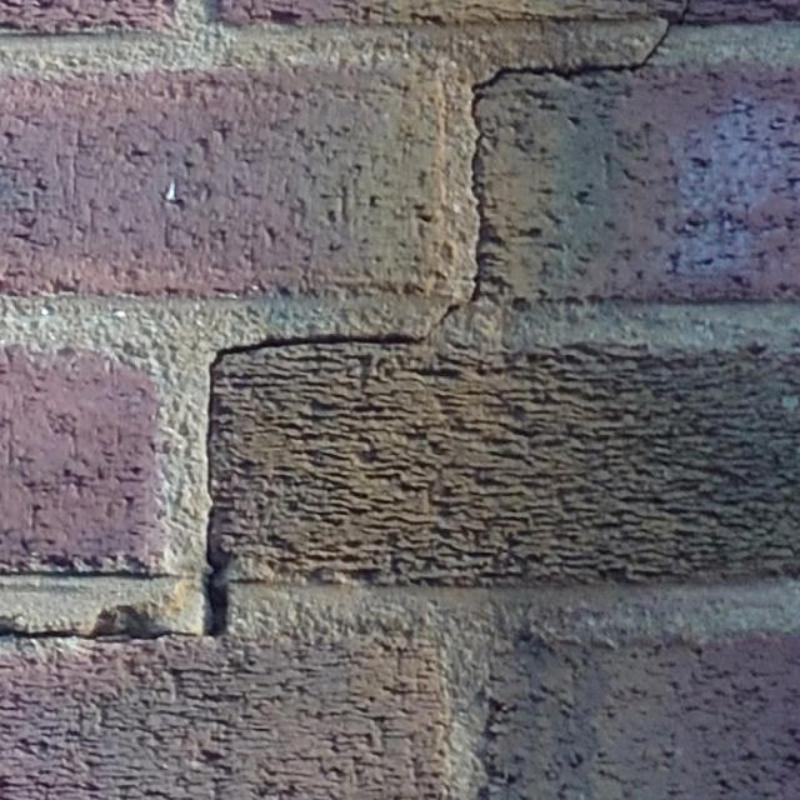pothole: (206, 303, 462, 578), (466, 20, 674, 304), (0, 628, 197, 644), (197, 575, 227, 635)
